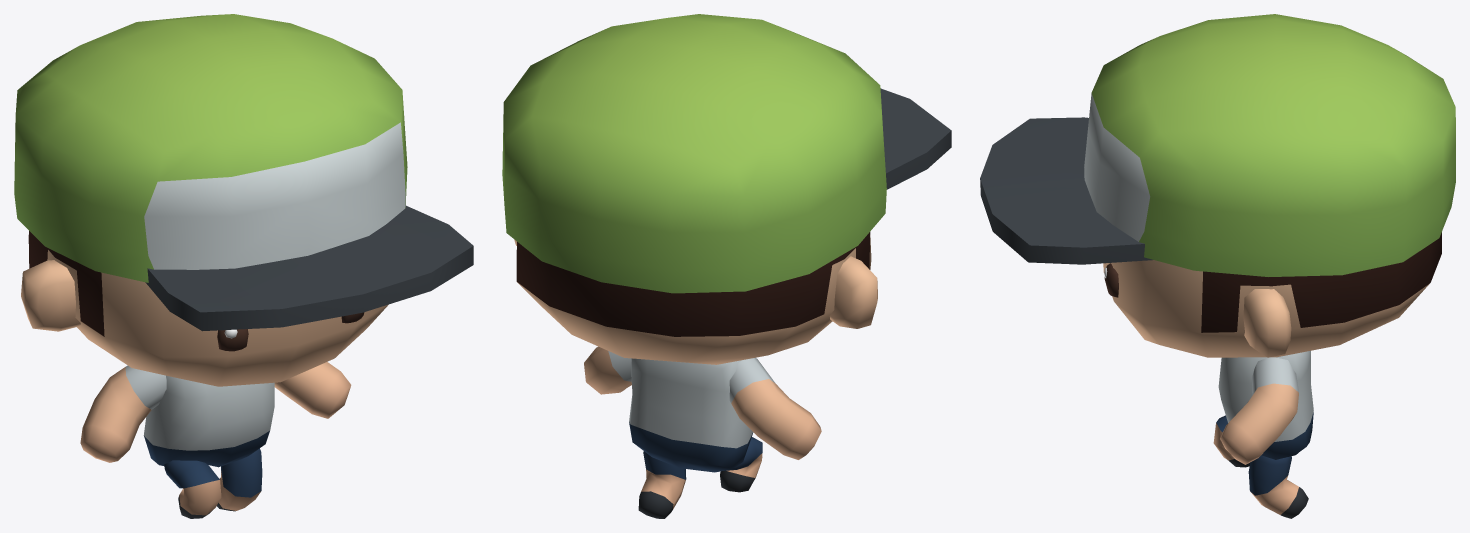
Rendered from run_0006.obj.
The picture shows the model from 3 angles, left to right: view 1: azimuth 30°, elevation 25°; view 2: azimuth 150°, elevation 25°; view 3: azimuth 270°, elevation 25°; orthographic projection. The views are drawn at different scales.
Parts seen in each view (by area): view 1: Object_41, Object_42, Object_44, Object_36, Object_38; view 2: Object_41, Object_36, Object_44, Object_42; view 3: Object_41, Object_36, Object_42, Object_44.
Part boxes in pixels (x1=…): Object_41: x1=14, y1=14, x2=407, y2=282; Object_42: x1=144, y1=122, x2=473, y2=331; Object_44: x1=80, y1=362, x2=351, y2=518; Object_36: x1=21, y1=231, x2=388, y2=386; Object_38: x1=217, y1=312, x2=364, y2=351; Object_41: x1=502, y1=14, x2=886, y2=293; Object_36: x1=514, y1=232, x2=877, y2=364; Object_44: x1=584, y1=346, x2=821, y2=518; Object_42: x1=880, y1=88, x2=951, y2=189; Object_41: x1=1091, y1=14, x2=1455, y2=276; Object_36: x1=1103, y1=232, x2=1441, y2=357; Object_42: x1=980, y1=93, x2=1152, y2=264; Object_44: x1=1213, y1=350, x2=1313, y2=518.
Size of the model in its own units: 0.9691 by 1.2 by 1.13.
